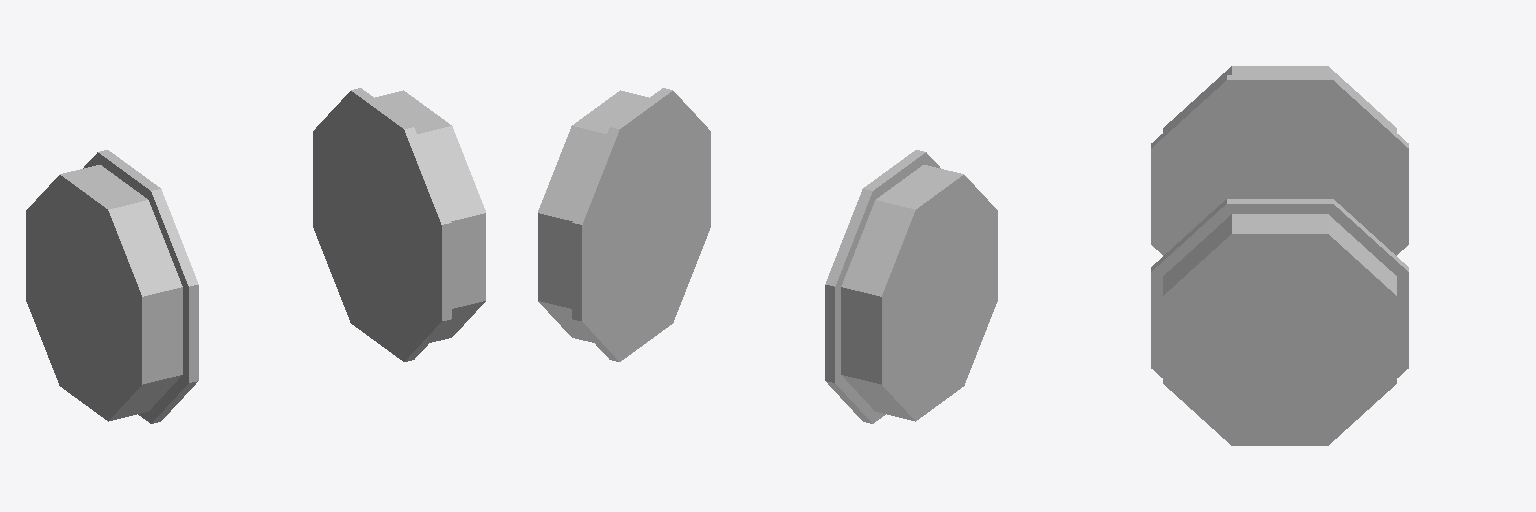
File: wheels_semi_blind.obj
The picture shows the model from 3 angles: view 1: azimuth 30°, elevation 25°; view 2: azimuth 150°, elevation 25°; view 3: azimuth 270°, elevation 25°; orthographic projection.
Parts seen in each view (by area): view 1: Cube.001; view 2: Cube.001; view 3: Cube.001.
Boxes of the visible parts, <box> form: Cube.001: <box>26,88,485,423</box>; Cube.001: <box>538,88,997,423</box>; Cube.001: <box>1151,66,1408,445</box>.
Size of the model in its own units: 2.12 by 1.38 by 1.38.